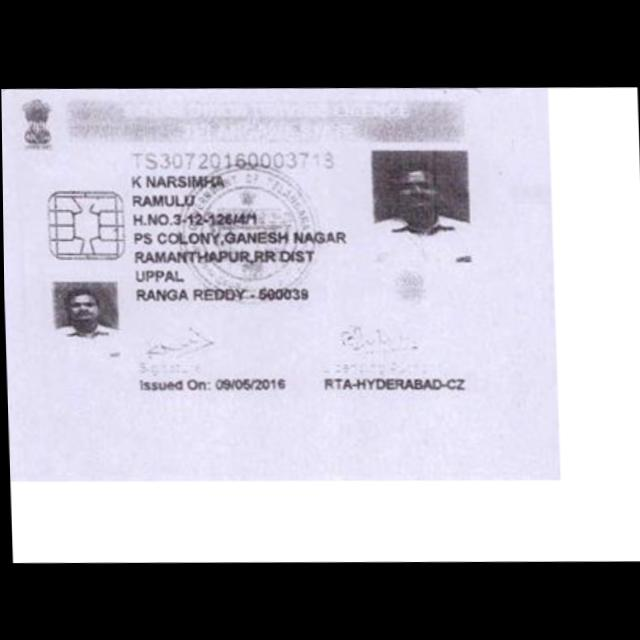driving_licence: (1, 80, 487, 470)
